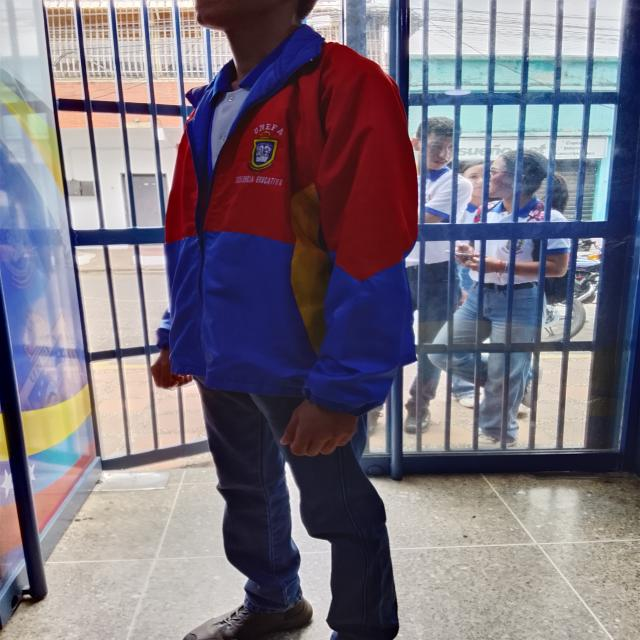chaqueta_unefa: (156, 21, 424, 411)
uniforme_superior: (469, 198, 571, 285), (386, 168, 473, 268)
